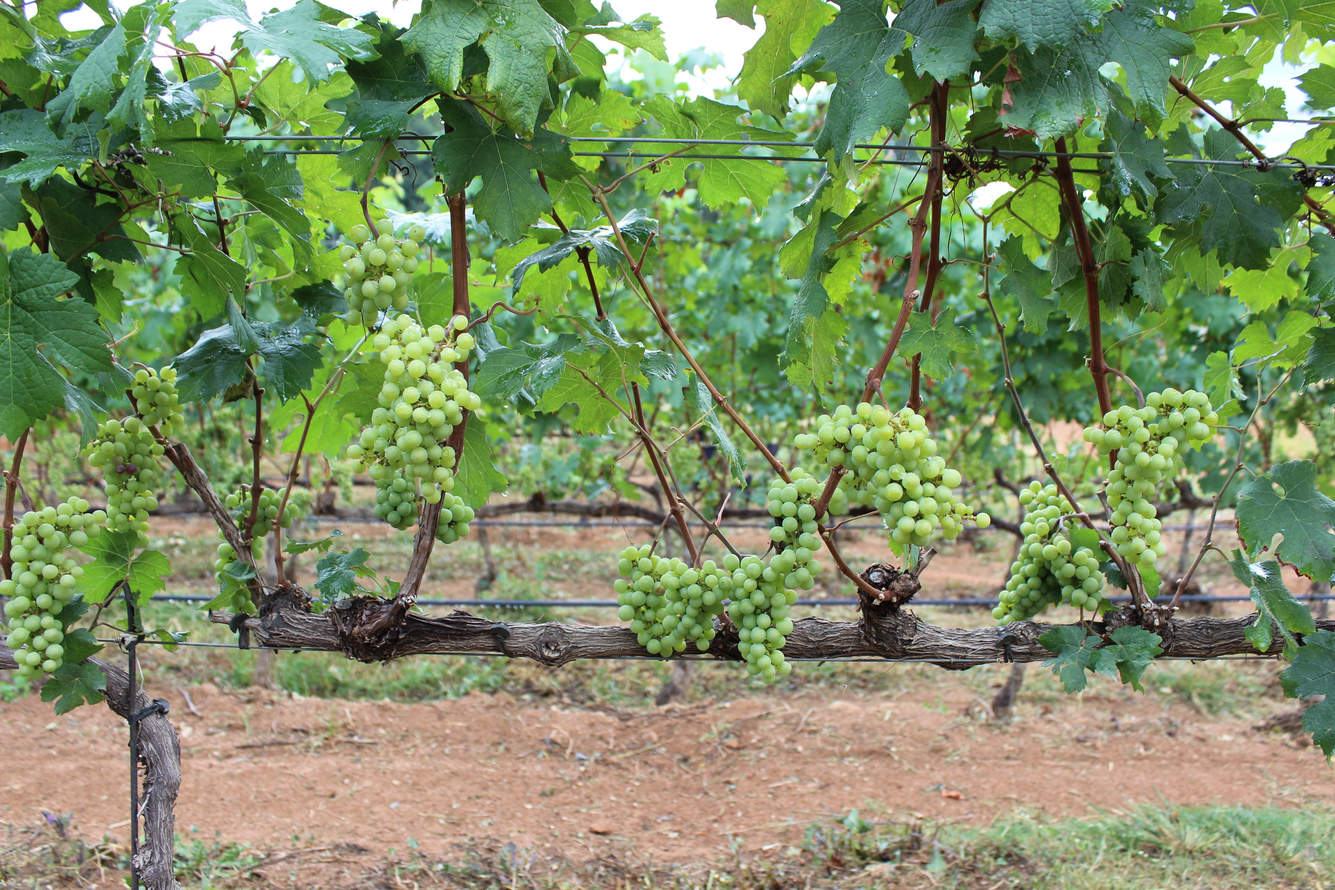leaf: (401, 0, 578, 135), (0, 248, 112, 440), (432, 100, 579, 242), (786, 0, 911, 161), (174, 0, 375, 81), (1157, 164, 1282, 269), (174, 320, 322, 402), (1235, 460, 1335, 581), (1100, 3, 1195, 124), (737, 0, 833, 119), (999, 34, 1108, 138), (23, 176, 142, 262), (229, 148, 313, 269), (1230, 550, 1316, 658), (107, 3, 170, 142), (46, 22, 126, 128), (1038, 626, 1162, 693), (144, 116, 244, 198), (510, 226, 626, 296), (346, 14, 438, 101), (173, 213, 247, 319), (0, 108, 98, 187), (643, 159, 787, 210), (255, 61, 353, 134), (1100, 110, 1173, 208), (79, 529, 171, 605), (1281, 630, 1335, 759), (979, 0, 1111, 52), (894, 0, 979, 80), (641, 96, 792, 141), (997, 235, 1055, 333), (293, 153, 364, 233), (900, 308, 977, 379), (452, 419, 508, 510), (1233, 311, 1320, 369), (1222, 248, 1300, 312), (570, 14, 669, 62), (548, 90, 641, 137), (1038, 625, 1101, 693), (1101, 626, 1163, 692), (41, 661, 106, 714), (156, 70, 222, 122), (313, 547, 374, 601), (344, 99, 417, 140), (64, 380, 106, 447), (1203, 351, 1244, 416), (1128, 247, 1169, 311), (291, 280, 348, 323), (1306, 232, 1335, 302), (1302, 328, 1335, 382), (1298, 65, 1335, 109), (62, 627, 104, 663), (618, 208, 658, 245), (715, 0, 756, 30), (1199, 129, 1238, 160), (585, 143, 593, 150), (603, 3, 610, 10), (62, 610, 67, 619), (720, 6, 724, 17), (154, 124, 157, 137), (991, 0, 998, 5), (956, 0, 968, 2), (260, 84, 265, 88), (728, 151, 737, 153), (256, 89, 259, 95), (1101, 654, 1107, 657), (1153, 7, 1157, 11), (635, 255, 638, 259), (926, 0, 931, 2), (237, 296, 240, 299), (707, 152, 713, 153), (326, 112, 332, 113), (803, 375, 806, 377), (215, 74, 217, 76), (370, 63, 374, 64), (266, 81, 267, 83), (544, 6, 546, 7), (48, 683, 49, 685), (985, 10, 986, 11), (730, 16, 731, 17), (145, 239, 146, 239), (364, 93, 364, 95), (67, 622, 67, 626), (617, 94, 619, 94)
